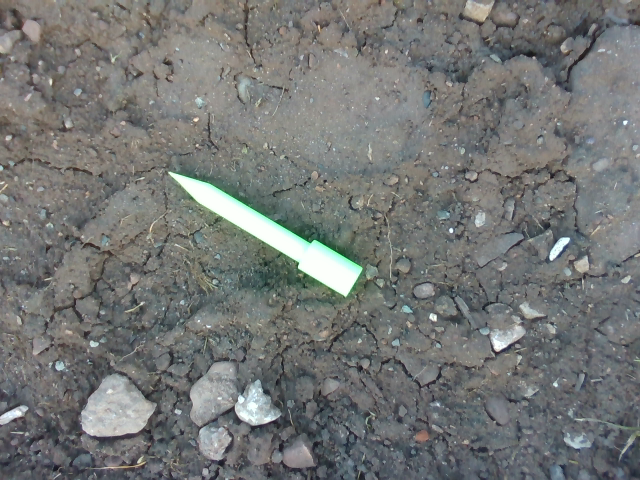Probe: (164, 164, 365, 302)
